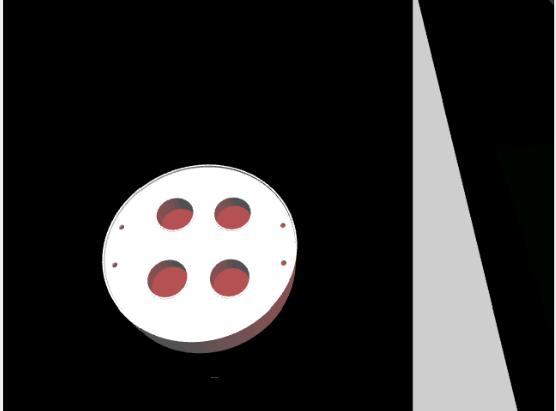hole: (149, 191, 199, 240), (142, 256, 192, 301), (207, 255, 253, 301), (210, 193, 254, 234)
